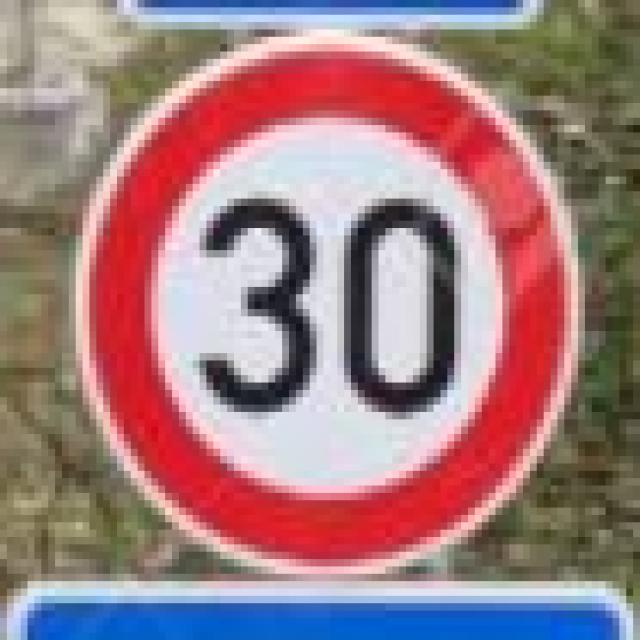speed_limit_30: (76, 44, 564, 559)
